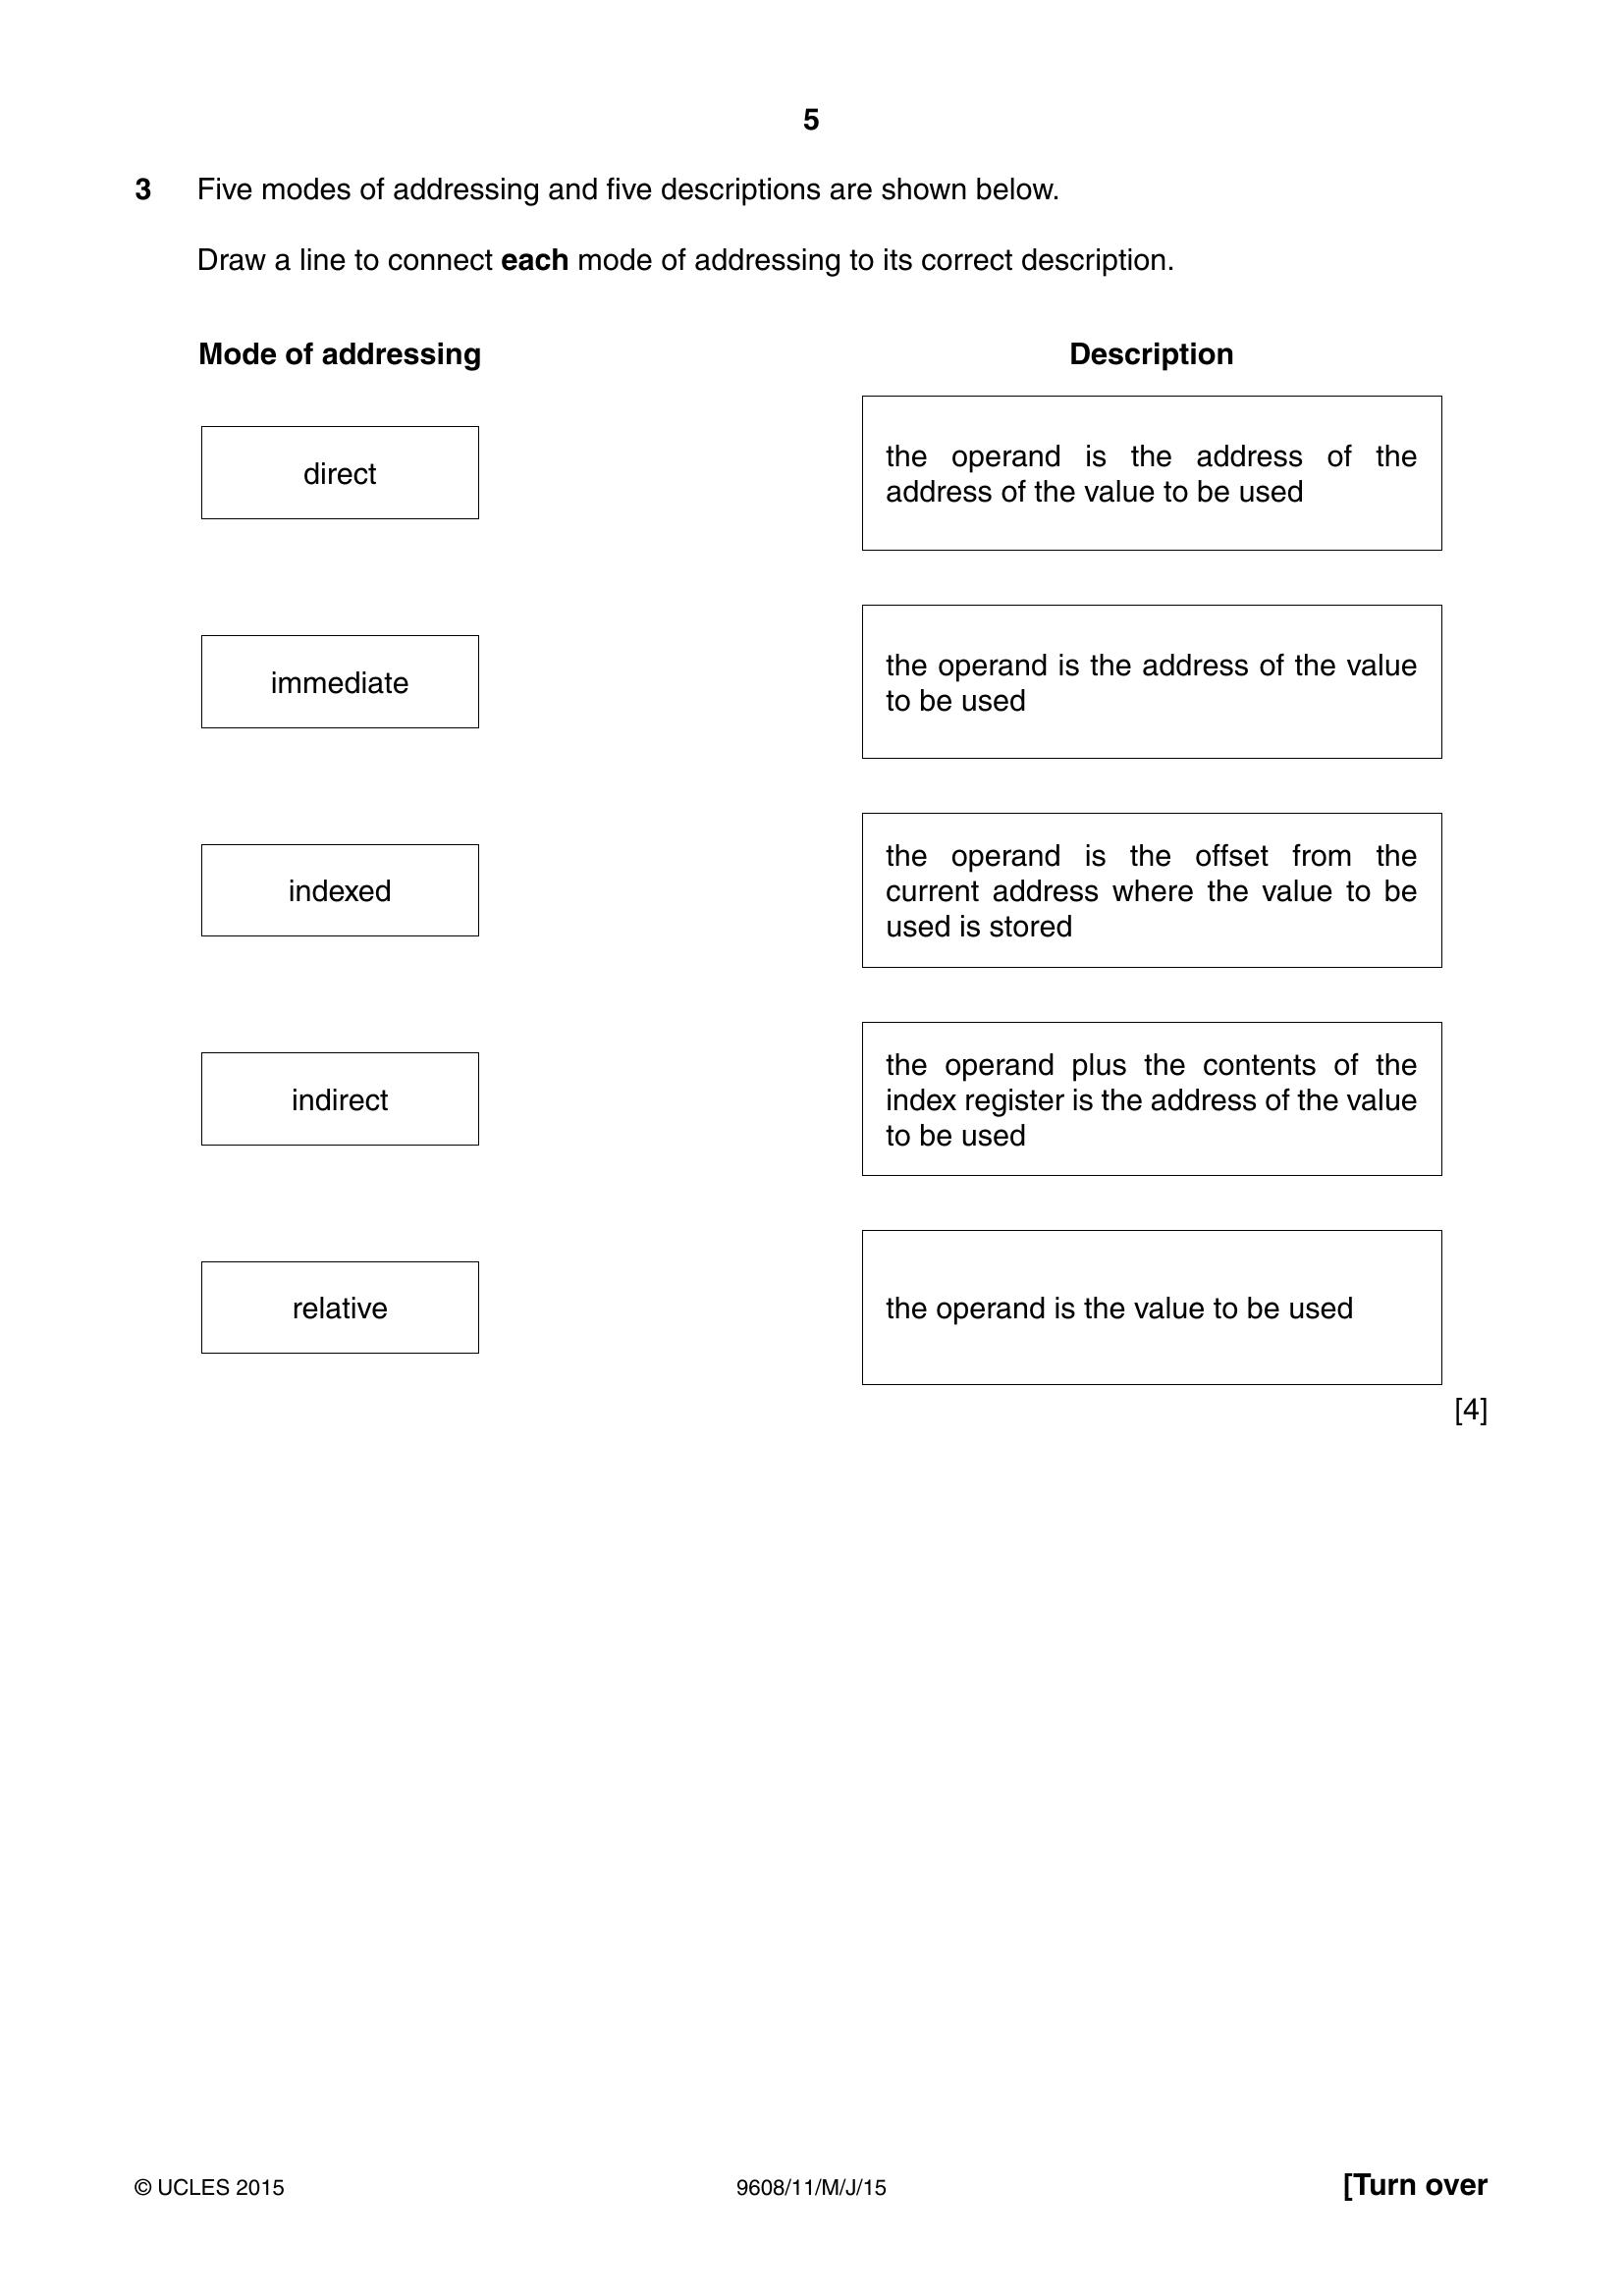continued question: (5, 155, 1624, 1509)
